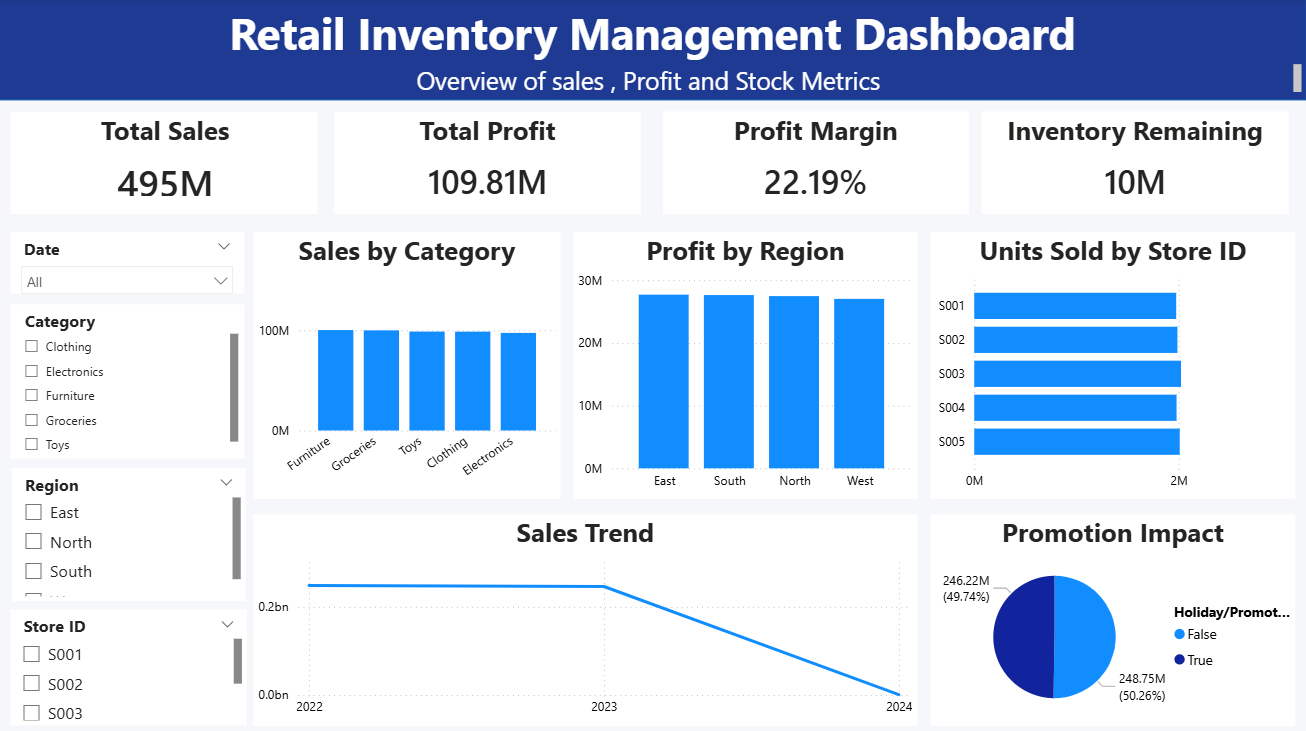

The dashboard page shown, as its layout file describes it:
{"tool":"powerbi","page":{"name":"Page 1","canvas":[1280,720],"ordinal":0},"visuals":[{"type":"shape","box":[0,0,1280.3,100.2],"z":0},{"type":"textbox","box":[0,0,1280.3,100.2],"z":1},{"type":"textbox","box":[0,60.4,1280.3,39.8],"z":2},{"type":"shape","box":[12.3,111.1,300.5,100.2],"z":3},{"type":"shape","box":[329.1,111.6,300,100],"z":4},{"type":"shape","box":[650.4,111.1,299.1,100.2],"z":5},{"type":"shape","box":[963.3,111.1,299.1,100.2],"z":6},{"type":"shape","box":[250,229.1,301.2,261.6],"z":7},{"type":"shape","box":[250,504.7,650,207],"z":8},{"type":"shape","box":[562.8,229.1,337.2,261.6],"z":9},{"type":"shape","box":[912.8,229.1,357,261.6],"z":10},{"type":"shape","box":[912.8,504.7,357,207],"z":11},{"type":"shape","box":[12.8,229.1,229.1,60.5],"z":12},{"type":"shape","box":[11.6,300,229.1,151.2],"z":13},{"type":"shape","box":[11.6,597.7,231.4,114],"z":14},{"type":"shape","box":[14,459.3,229.1,130.2],"z":15},{"type":"cardVisual","title":"Total Sales","fields":{"Data":["retail_store_inventory excel dataset.Total Sales"]},"box":[14,111.6,300,100],"z":16},{"type":"cardVisual","title":"Total Profit","fields":{"Data":["retail_store_inventory excel dataset.Total Profit"]},"box":[329.1,111.6,300,100],"z":17},{"type":"cardVisual","title":"Profit Margin","fields":{"Data":["retail_store_inventory excel dataset.Profit Margin"]},"box":[650,111.6,298.8,100],"z":18},{"type":"cardVisual","title":"Inventory Remaining","fields":{"Data":["retail_store_inventory excel dataset.Inventory Remainig"]},"box":[962.8,111.6,300,98.8],"z":19},{"type":"clusteredColumnChart","title":"Sales by Category","fields":{"Category":["retail_store_inventory excel dataset.Category"],"Y":["retail_store_inventory excel dataset.Total Sales"]},"box":[250,229.1,301.2,261.6],"z":20},{"type":"clusteredColumnChart","title":"Profit by Region","fields":{"Category":["retail_store_inventory excel dataset.Region"],"Y":["retail_store_inventory excel dataset.Total Profit"]},"box":[562.8,229.1,337.2,261.6],"z":21},{"type":"barChart","title":"Units Sold by Store ID","fields":{"Category":["retail_store_inventory excel dataset.Store ID"],"Y":["retail_store_inventory excel dataset.Total Units Sold"]},"box":[912.8,229.1,357,261.6],"z":22},{"type":"lineChart","title":" Sales Trend","fields":{"Category":["retail_store_inventory excel dataset.Date.Variation.Date Hierarchy.Year","retail_store_inventory excel dataset.Date.Variation.Date Hierarchy.Quarter","retail_store_inventory excel dataset.Date.Variation.Date Hierarchy.Month","retail_store_inventory excel dataset.Date.Variation.Date Hierarchy.Day"],"Y":["retail_store_inventory excel dataset.Total Sales"]},"box":[250,504.7,650,207],"z":23},{"type":"pieChart","title":"Promotion Impact","fields":{"Category":["retail_store_inventory excel dataset.Holiday/Promotion"],"Y":["retail_store_inventory excel dataset.Total Sales"]},"box":[912.8,504.7,357,207],"z":24},{"type":"slicer","fields":{"Values":["retail_store_inventory excel dataset.Date"]},"box":[12.8,229.1,227.9,60.5],"z":25},{"type":"slicer","fields":{"Values":["retail_store_inventory excel dataset.Category"]},"box":[14,300,226.7,151.2],"z":26},{"type":"slicer","fields":{"Values":["retail_store_inventory excel dataset.Region"]},"box":[14,459.3,229.1,130.2],"z":27},{"type":"slicer","fields":{"Values":["retail_store_inventory excel dataset.Store ID"]},"box":[11.6,597.7,231.4,114],"z":28}]}

Visuals, with their boxes in screenshot pixels (x1, y1, x2, y2), scaled from the page's 1280x720 canvas onto the 1306x731 screenshot:
shape: {"left": 0, "top": 0, "right": 1305, "bottom": 102}
textbox: {"left": 0, "top": 0, "right": 1305, "bottom": 102}
textbox: {"left": 0, "top": 61, "right": 1305, "bottom": 102}
shape: {"left": 13, "top": 113, "right": 319, "bottom": 215}
shape: {"left": 336, "top": 113, "right": 642, "bottom": 215}
shape: {"left": 664, "top": 113, "right": 969, "bottom": 215}
shape: {"left": 983, "top": 113, "right": 1288, "bottom": 215}
shape: {"left": 255, "top": 233, "right": 562, "bottom": 498}
shape: {"left": 255, "top": 512, "right": 918, "bottom": 723}
shape: {"left": 574, "top": 233, "right": 918, "bottom": 498}
shape: {"left": 931, "top": 233, "right": 1296, "bottom": 498}
shape: {"left": 931, "top": 512, "right": 1296, "bottom": 723}
shape: {"left": 13, "top": 233, "right": 247, "bottom": 294}
shape: {"left": 12, "top": 305, "right": 246, "bottom": 458}
shape: {"left": 12, "top": 607, "right": 248, "bottom": 723}
shape: {"left": 14, "top": 466, "right": 248, "bottom": 599}
"Total Sales" cardVisual: {"left": 14, "top": 113, "right": 320, "bottom": 215}
"Total Profit" cardVisual: {"left": 336, "top": 113, "right": 642, "bottom": 215}
"Profit Margin" cardVisual: {"left": 663, "top": 113, "right": 968, "bottom": 215}
"Inventory Remaining" cardVisual: {"left": 982, "top": 113, "right": 1288, "bottom": 214}
"Sales by Category" clusteredColumnChart: {"left": 255, "top": 233, "right": 562, "bottom": 498}
"Profit by Region" clusteredColumnChart: {"left": 574, "top": 233, "right": 918, "bottom": 498}
"Units Sold by Store ID" barChart: {"left": 931, "top": 233, "right": 1296, "bottom": 498}
" Sales Trend" lineChart: {"left": 255, "top": 512, "right": 918, "bottom": 723}
"Promotion Impact" pieChart: {"left": 931, "top": 512, "right": 1296, "bottom": 723}
slicer - retail_store_inventory excel dataset.Date: {"left": 13, "top": 233, "right": 246, "bottom": 294}
slicer - retail_store_inventory excel dataset.Category: {"left": 14, "top": 305, "right": 246, "bottom": 458}
slicer - retail_store_inventory excel dataset.Region: {"left": 14, "top": 466, "right": 248, "bottom": 599}
slicer - retail_store_inventory excel dataset.Store ID: {"left": 12, "top": 607, "right": 248, "bottom": 723}
